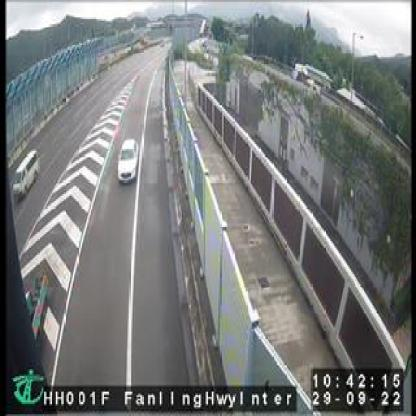Car: (9, 142, 39, 205), (116, 135, 140, 182)
